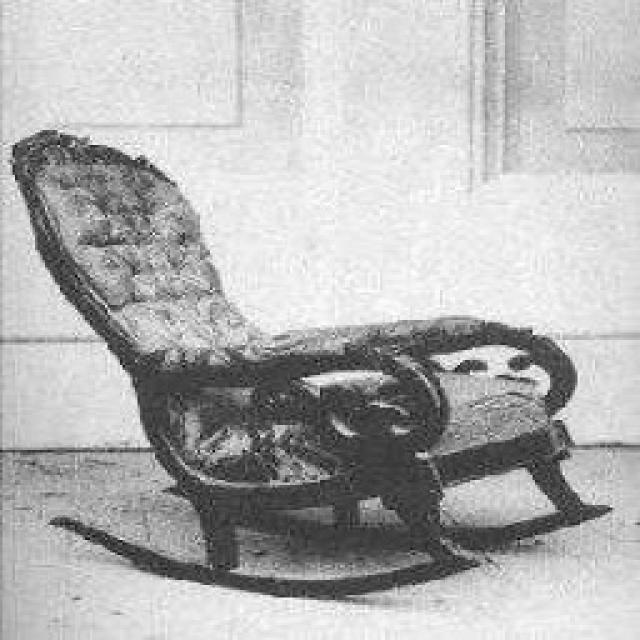sandalye: (8, 125, 610, 598)
